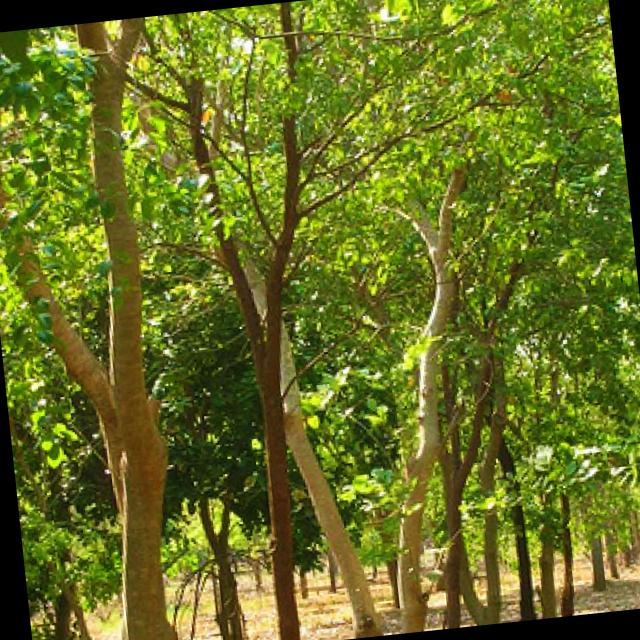Medicinal-Sandalwood: (138, 0, 394, 640), (329, 0, 559, 634), (0, 15, 220, 640), (493, 0, 640, 613)
